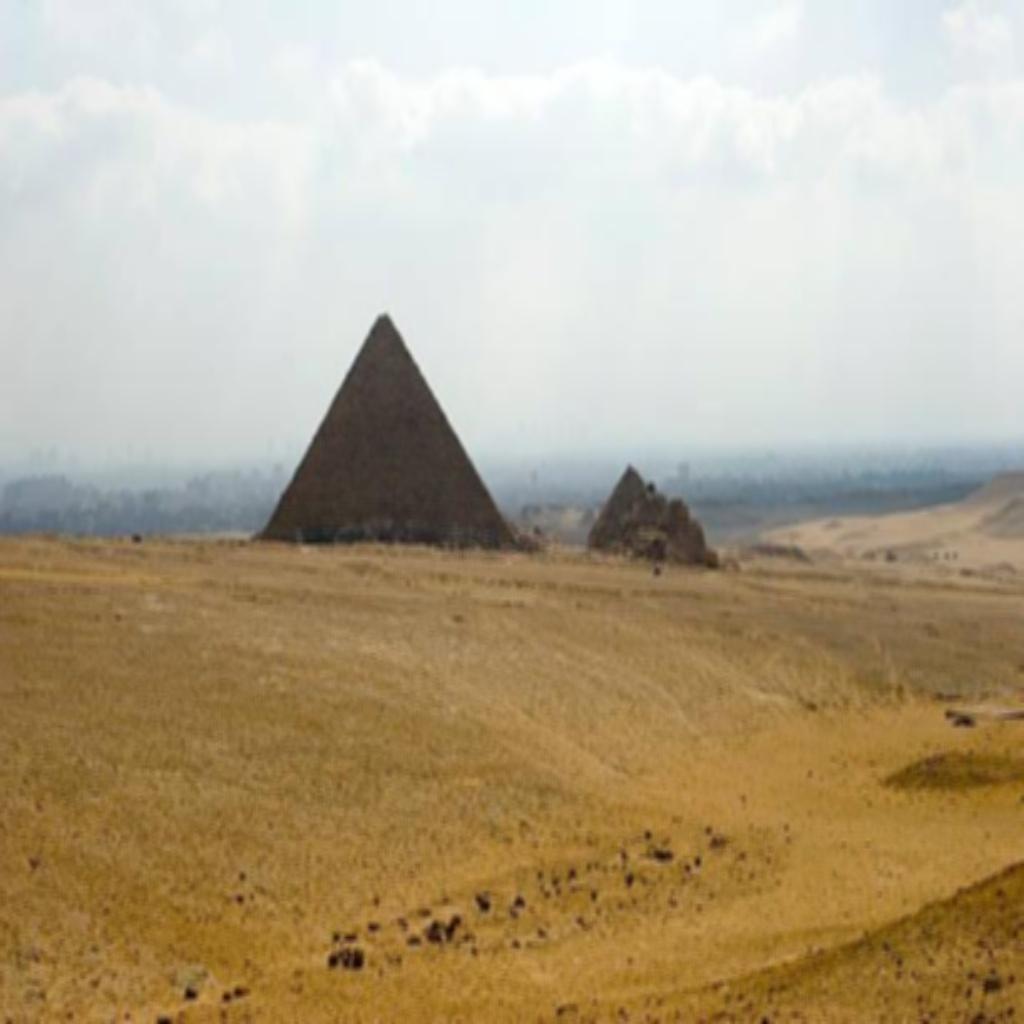Great Pyramids of Giza: (252, 308, 524, 550)
